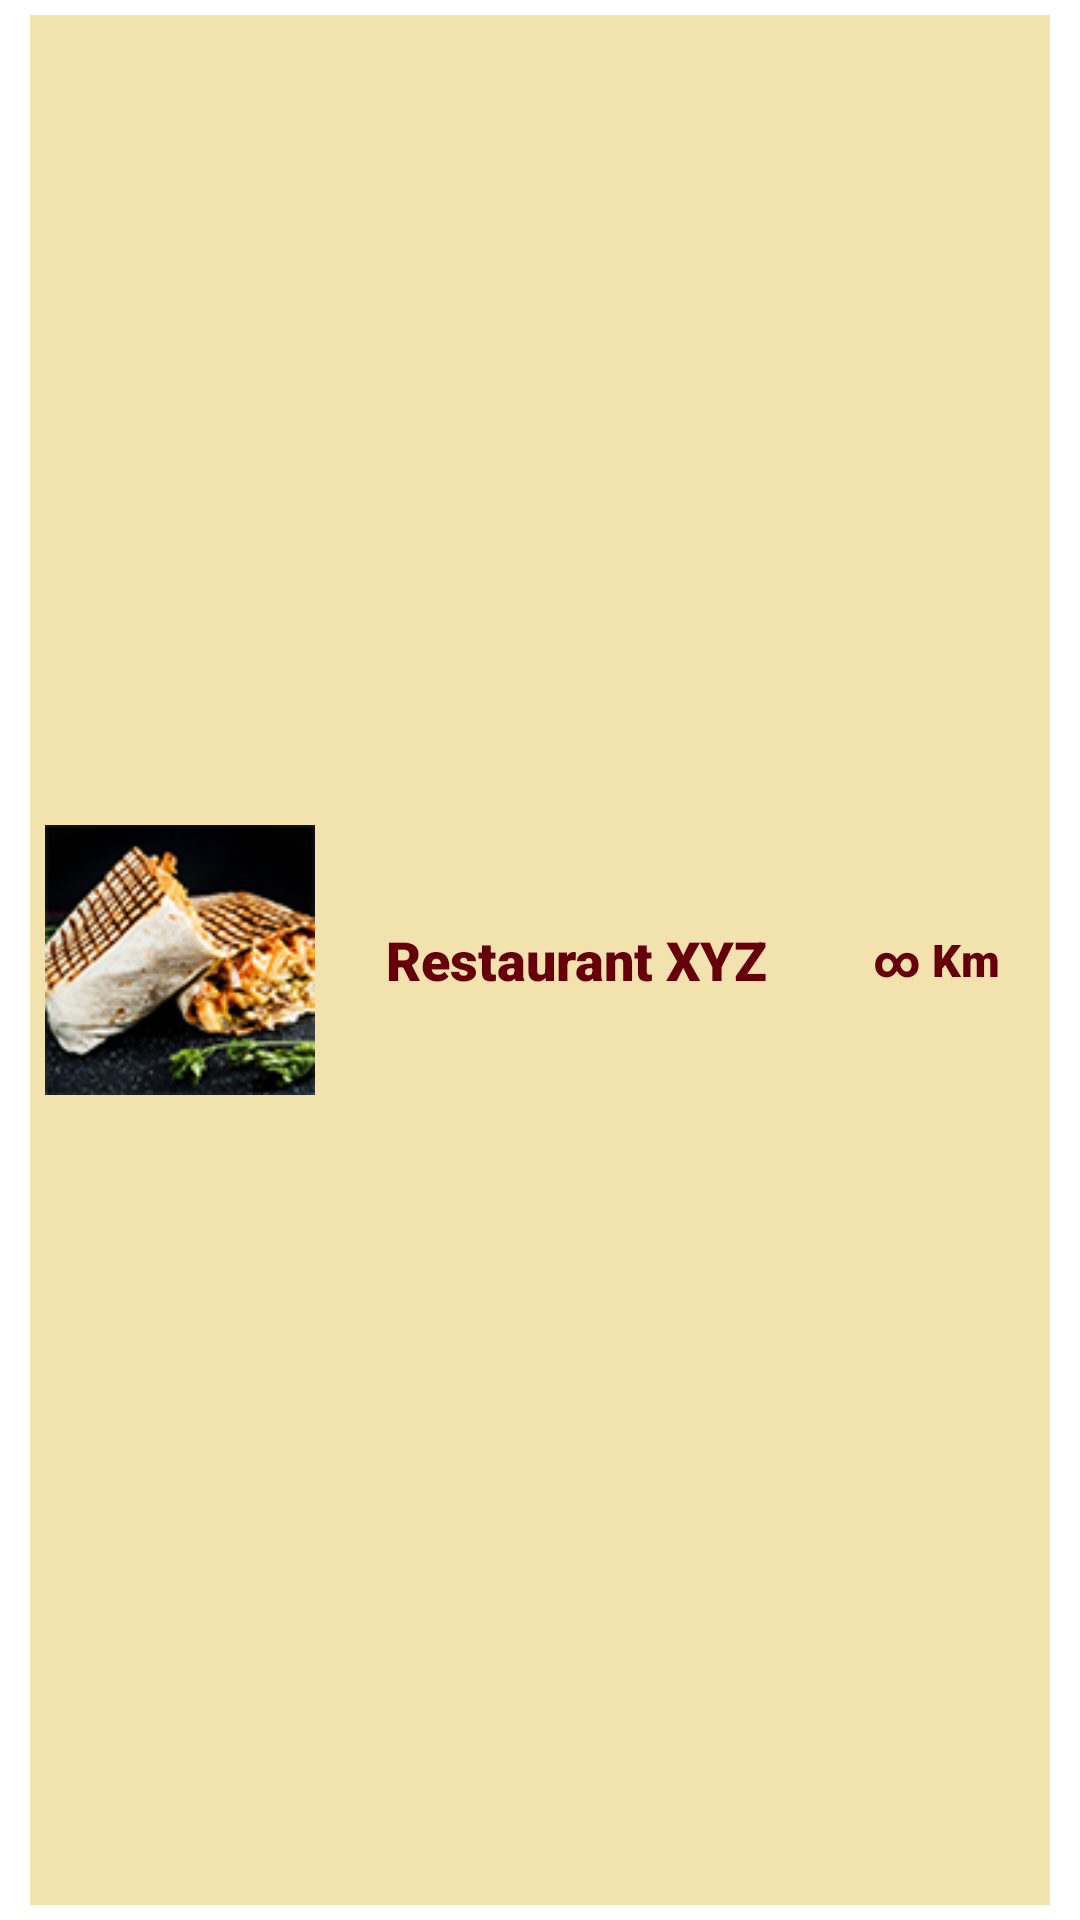

Screen size 1080px x 1920px. Icon name, then its box in pixels as (x1, y1, x2, y2):
tacos: (45, 825, 315, 1095)
